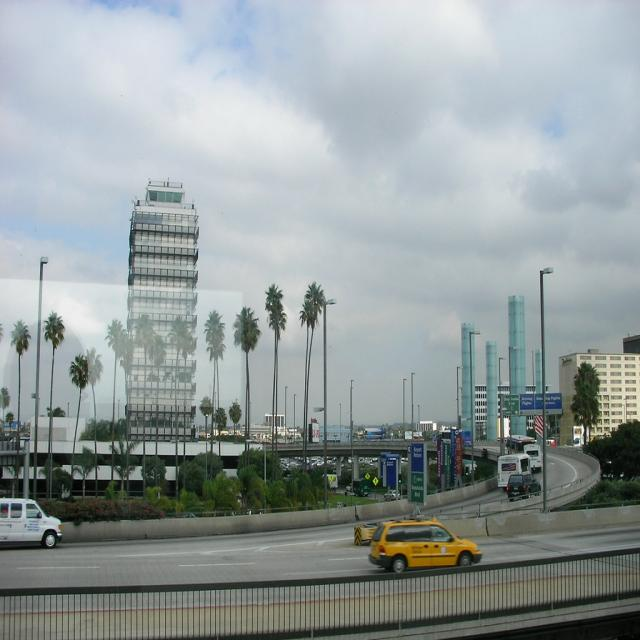car: (356, 513, 480, 584)
